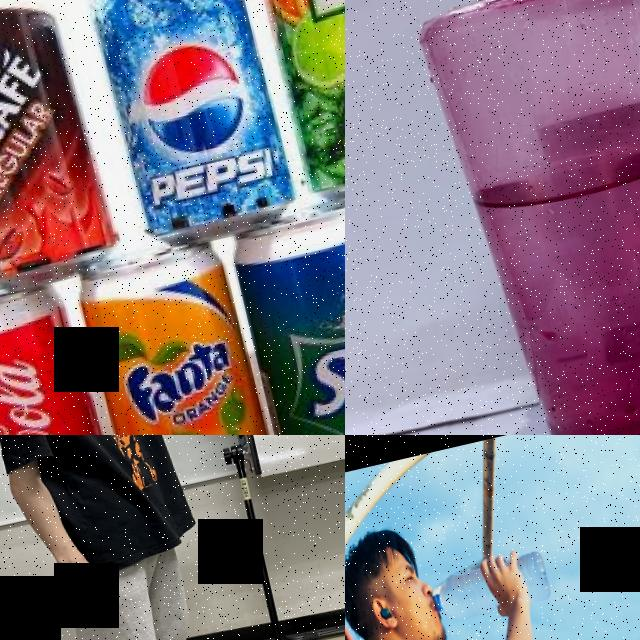bottle: (381, 0, 640, 435), (426, 546, 554, 628)
can: (70, 0, 297, 258), (78, 236, 297, 435), (0, 0, 123, 298), (222, 195, 345, 435), (0, 275, 138, 435), (244, 0, 345, 208)
